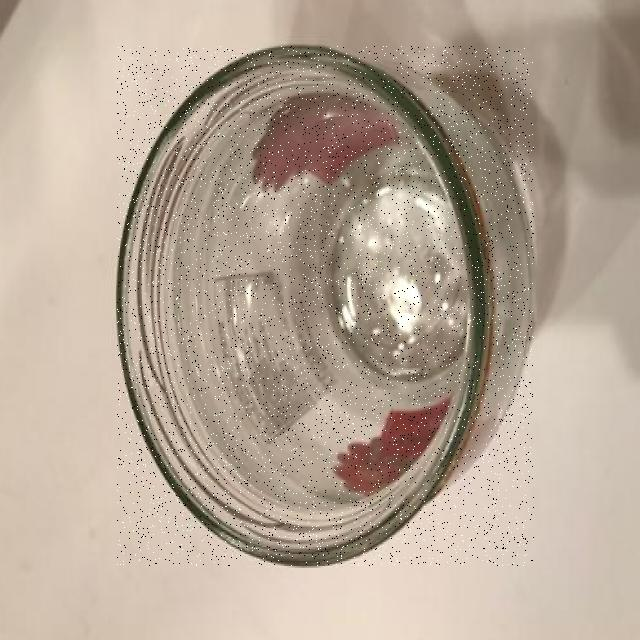glass: (118, 46, 534, 566)
